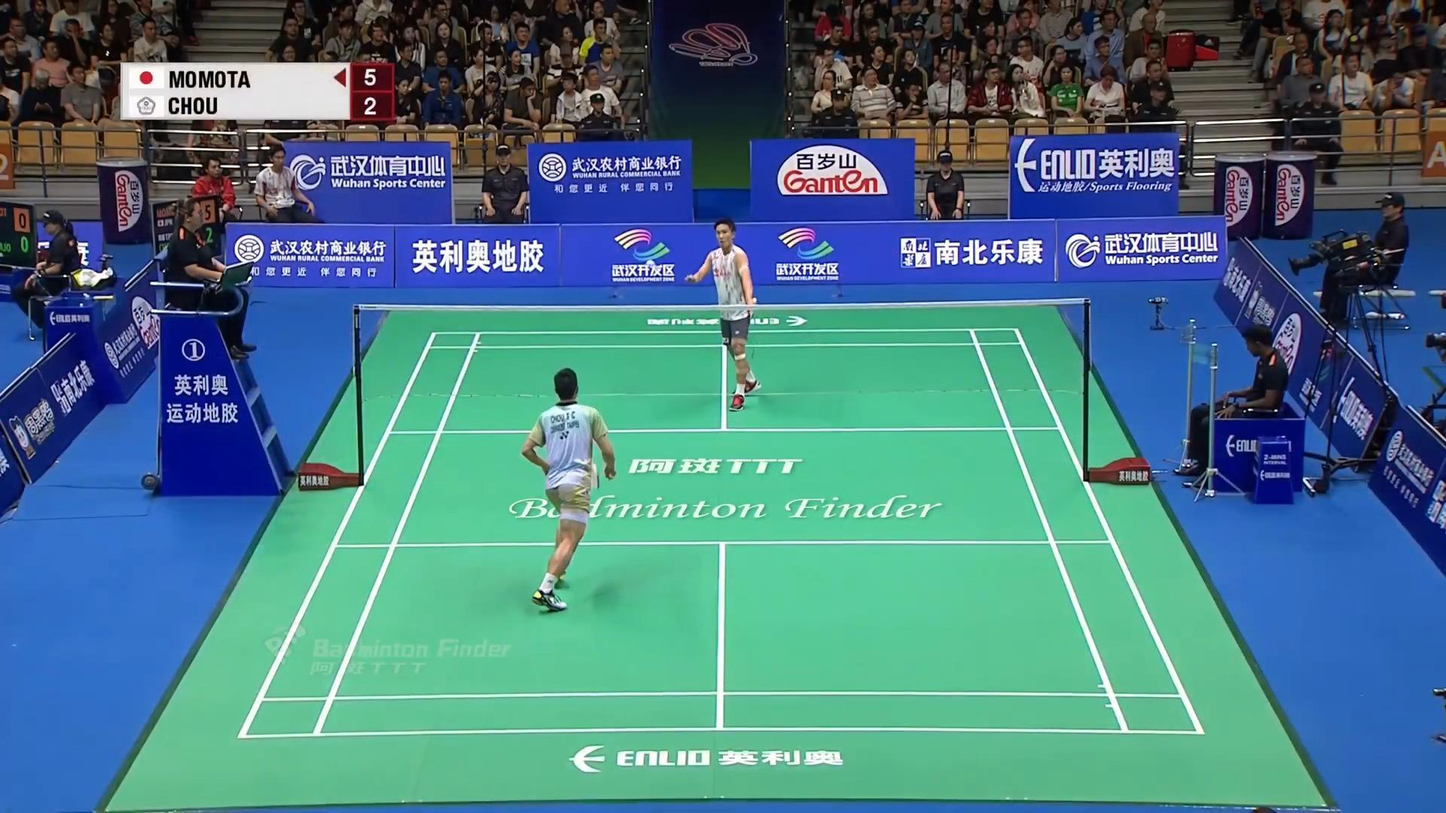player: (521, 369, 616, 614), (686, 217, 761, 412)
